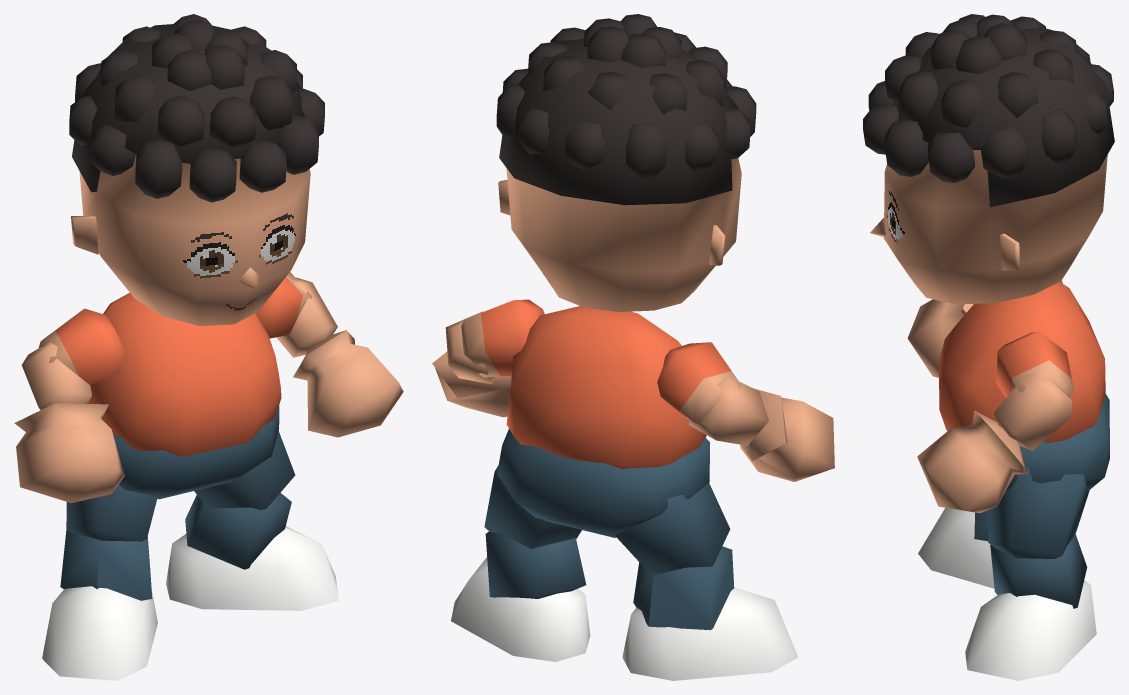
3 views of the same model, side by side, from view 1: azimuth 30°, elevation 25°; view 2: azimuth 150°, elevation 25°; view 3: azimuth 270°, elevation 25° (orthographic). The views are drawn at different scales.
Visible parts, largest first — view 1: Character; view 2: Character; view 3: Character.
Part boxes in pixels (box(x1,y1,x2,y2)): Character: box(14, 14, 403, 680); Character: box(432, 14, 834, 680); Character: box(863, 14, 1114, 680).
Size of the model in its own units: 1.98 by 2.92 by 1.14.
Materials: 9 (2 with a texture image).
